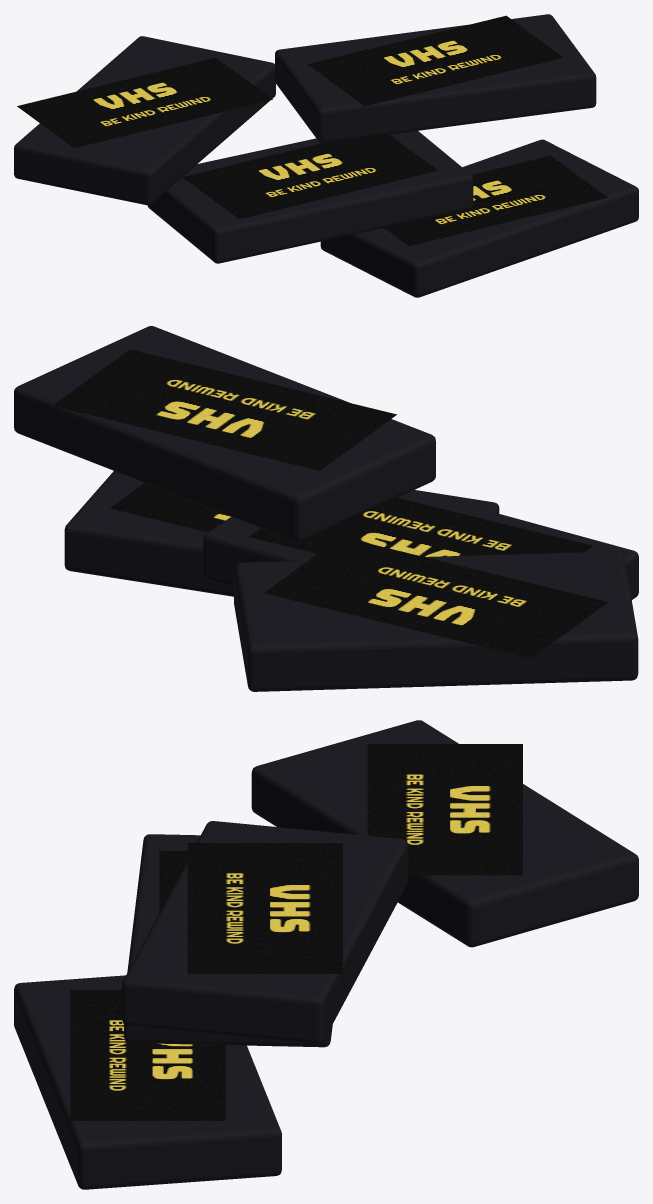
File: Trash_VHSBox.fbx
3 renders of one model, top to bottom at view 1: azimuth 30°, elevation 25°; view 2: azimuth 150°, elevation 25°; view 3: azimuth 270°, elevation 25°, orthographic. The views are drawn at different scales.
Visible parts, largest first — view 1: Trash_VHSBox; view 2: Trash_VHSBox; view 3: Trash_VHSBox.
Part boxes in pixels (x1,y1,x2,y2): Trash_VHSBox: (14, 14, 638, 297); Trash_VHSBox: (14, 326, 638, 691); Trash_VHSBox: (14, 720, 638, 1189).
Bounding box in the file's own units: 0.3772 × 0.1033 × 0.3017.
Materials: 2 (1 with a texture image).
